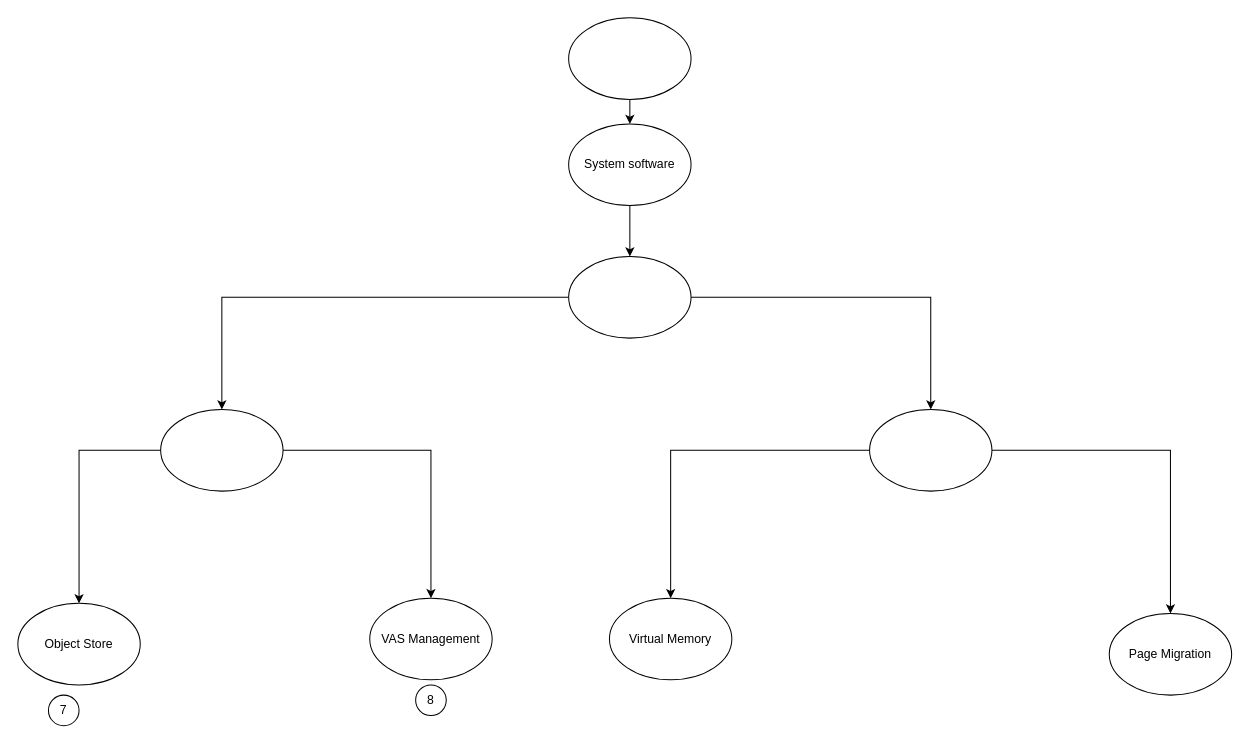
This 1250x744 diagram has some shape labels left out. Each missing label, with the centre of its shape:
"Memory Management" goes at pixel 930 450.
"New OS abstractions" goes at pixel 221 450.
"NVM" goes at pixel 629 58.
"OS" goes at pixel 629 297.
